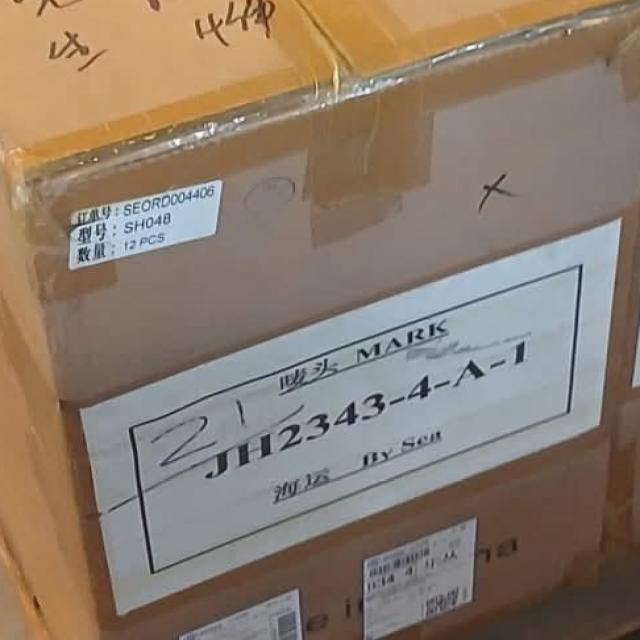carton_box: (0, 0, 640, 640)
export_mark_label: (89, 218, 640, 587), (53, 178, 235, 277), (357, 526, 490, 640)
